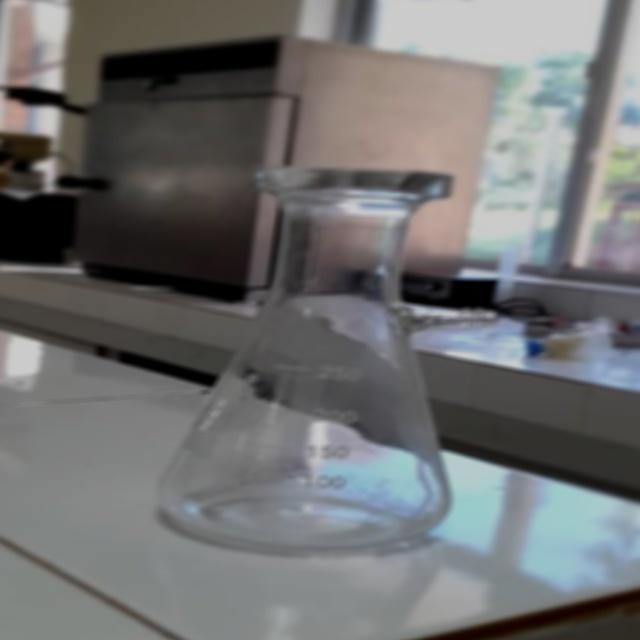Filtration Flask: (150, 150, 556, 574)
